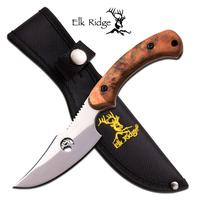knife: (10, 25, 181, 192)
